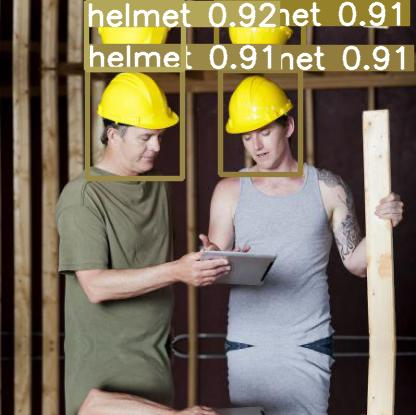helmet: (87, 69, 182, 178), (220, 70, 300, 174), (86, 1, 183, 69), (216, 0, 303, 67)
